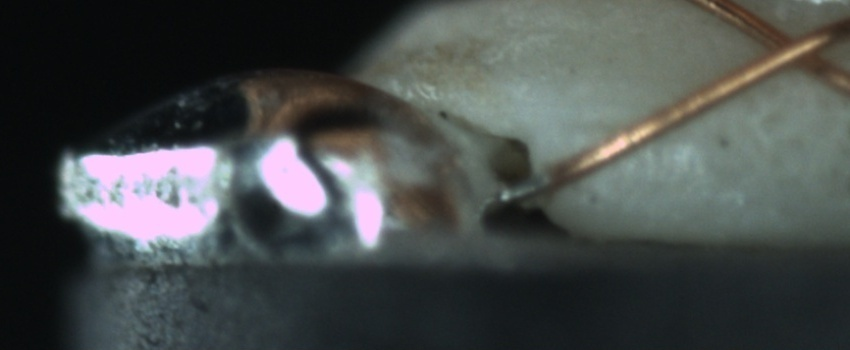CL: (741, 11, 843, 82)
TS: (492, 173, 549, 206)
TTCW: (494, 159, 564, 207)
